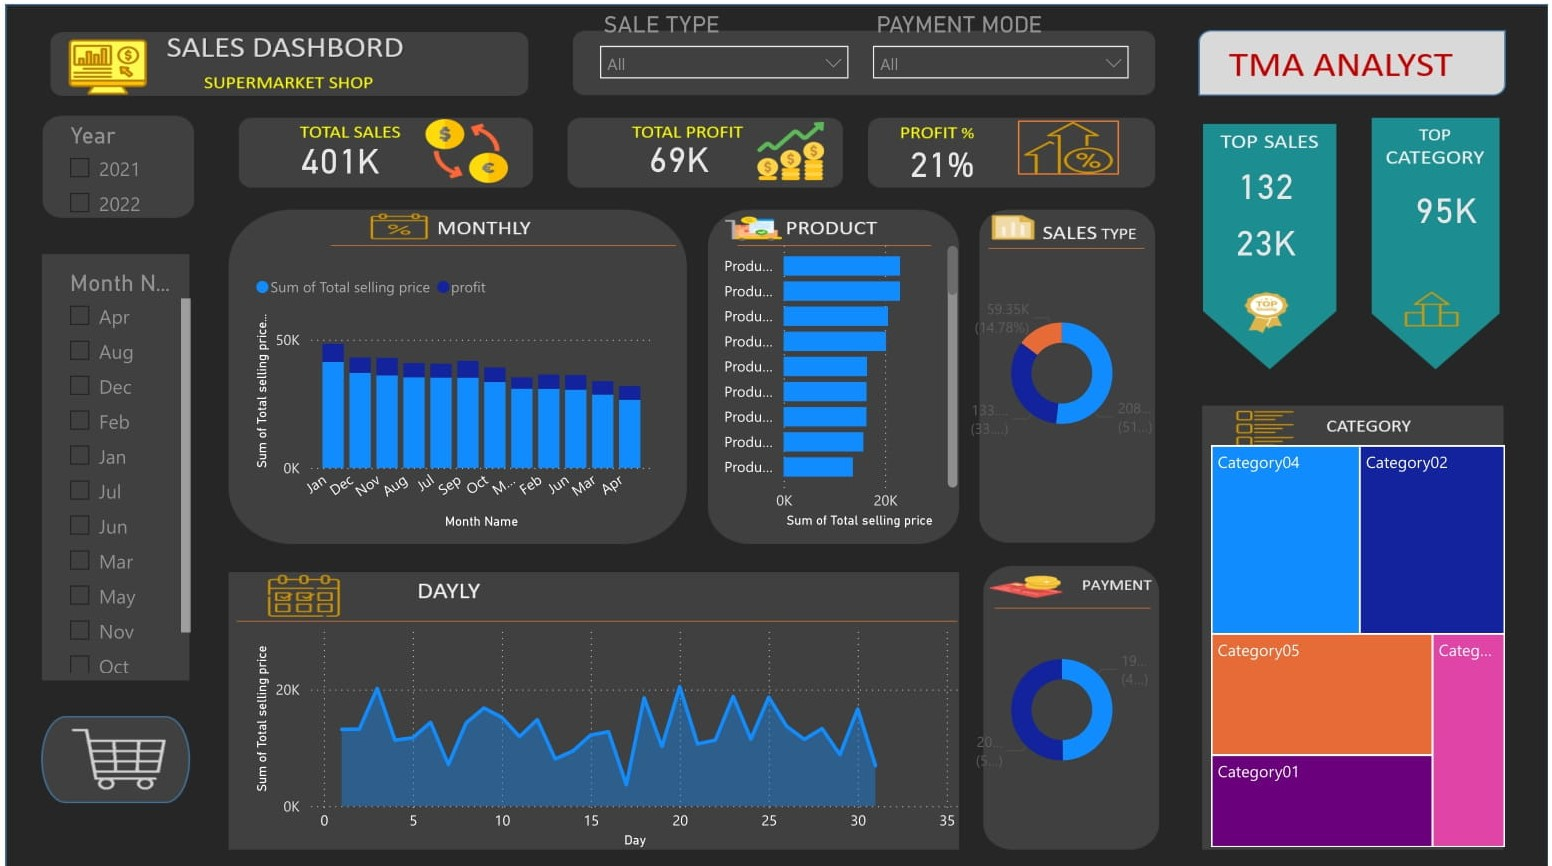

This screenshot's page, from the dashboard's own definition file:
{"tool":"powerbi","page":{"name":"Page 1","canvas":[1280,720],"ordinal":0},"visuals":[{"type":"slicer","fields":{"Values":["InputData.Year"]},"box":[40.8,91.7,118.2,95.8],"z":0},{"type":"slicer","fields":{"Values":["InputData.Month Name"]},"box":[40.8,214,118.2,344.5],"z":1000},{"type":"slicer","fields":{"Values":["InputData.SALE TYPE"]},"box":[483.1,0,226.3,71.3],"z":2000},{"type":"slicer","fields":{"Values":["InputData.PAYMENT MODE"]},"box":[709.4,0,232.4,71.3],"z":3000},{"type":"card","fields":{"Values":["Sum(InputData.Total selling price)"]},"box":[201.8,99.9,150.8,55],"z":4000},{"type":"card","fields":{"Values":["InputData.profit"]},"box":[483.1,108,150.8,38.7],"z":5000},{"type":"card","fields":{"Values":["InputData.profit%"]},"box":[709.4,108,134.5,46.9],"z":6000},{"type":"columnChart","fields":{"Category":["InputData.Month Name"],"Y":["Sum(InputData.Total selling price)","InputData.profit"]},"box":[201.8,214,338.4,224.2],"z":7000},{"type":"clusteredBarChart","fields":{"Category":["InputData.MasterData.PRODUCT"],"Y":["Sum(InputData.Total selling price)"]},"box":[578.9,187.5,216.1,250.7],"z":8000},{"type":"areaChart","fields":{"Category":["InputData.Day"],"Y":["Sum(InputData.Total selling price)"]},"box":[201.8,505.5,593.2,197.7],"z":9000},{"type":"donutChart","fields":{"Y":["Sum(InputData.Total selling price)"],"Category":["InputData.SALE TYPE"]},"box":[795,187.5,163.1,236.5],"z":10000},{"type":"treemap","fields":{"Group":["InputData.MasterData.CATEGORY"],"Values":["Sum(InputData.Total selling price)"]},"box":[994.7,360.8,252.8,342.5],"z":11000},{"type":"donutChart","fields":{"Y":["Sum(InputData.Total selling price)"],"Series":["InputData.PAYMENT MODE"]},"box":[795,466.8,163.1,236.5],"z":12000},{"type":"card","fields":{"Values":["Sum(InputData.Total selling price)"]},"box":[970.3,169.2,150.8,55],"z":13000},{"type":"card","fields":{"Values":["Sum(InputData.QUANTITY)"]},"box":[970.3,128.4,150.8,42.8],"z":14000},{"type":"card","fields":{"Values":["Sum(InputData.Total selling price)"]},"box":[1141.5,140.7,106,55],"z":15000}]}

Visuals, with their boxes in screenshot pixels (x1, y1, x2, y2), scaled from the page's 1280x720 canvas onto the 1552x866 screenshot:
slicer - InputData.Year: <region>49, 110, 193, 226</region>
slicer - InputData.Month Name: <region>49, 257, 193, 672</region>
slicer - InputData.SALE TYPE: <region>586, 0, 860, 86</region>
slicer - InputData.PAYMENT MODE: <region>860, 0, 1142, 86</region>
card - Sum(InputData.Total selling price): <region>245, 120, 428, 186</region>
card - InputData.profit: <region>586, 130, 769, 176</region>
card - InputData.profit%: <region>860, 130, 1023, 186</region>
columnChart - InputData.Month Name x Sum(InputData.Total selling price): <region>245, 257, 655, 527</region>
clusteredBarChart - InputData.MasterData.PRODUCT x Sum(InputData.Total selling price): <region>702, 226, 964, 527</region>
areaChart - InputData.Day x Sum(InputData.Total selling price): <region>245, 608, 964, 846</region>
donutChart - Sum(InputData.Total selling price) x InputData.SALE TYPE: <region>964, 226, 1162, 510</region>
treemap - InputData.MasterData.CATEGORY x Sum(InputData.Total selling price): <region>1206, 434, 1513, 846</region>
donutChart - Sum(InputData.Total selling price) x InputData.PAYMENT MODE: <region>964, 561, 1162, 846</region>
card - Sum(InputData.Total selling price): <region>1176, 204, 1359, 270</region>
card - Sum(InputData.QUANTITY): <region>1176, 154, 1359, 206</region>
card - Sum(InputData.Total selling price): <region>1384, 169, 1513, 235</region>
